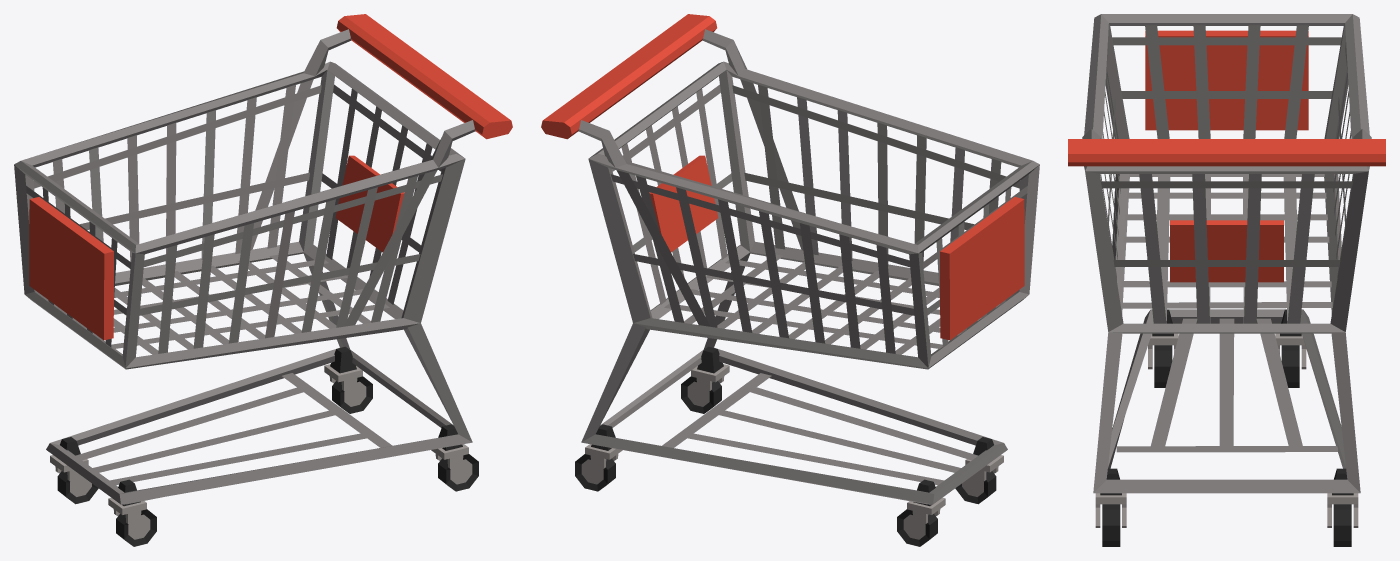
The model's file is apocalypse_shopping-trolley-seat-a.fbx.
3 renders of one model, left to right at view 1: azimuth 30°, elevation 25°; view 2: azimuth 150°, elevation 25°; view 3: azimuth 270°, elevation 25°, orthographic. The views are drawn at different scales.
Visible parts, largest first — view 1: apocalypse_shopping_trolley_seat_a; view 2: apocalypse_shopping_trolley_seat_a; view 3: apocalypse_shopping_trolley_seat_a.
Part boxes in pixels (x1=…): apocalypse_shopping_trolley_seat_a: x1=14, y1=14, x2=512, y2=546; apocalypse_shopping_trolley_seat_a: x1=541, y1=14, x2=1039, y2=546; apocalypse_shopping_trolley_seat_a: x1=1068, y1=14, x2=1385, y2=546.
Bounding box in the file's own units: 200 × 192 × 135.
